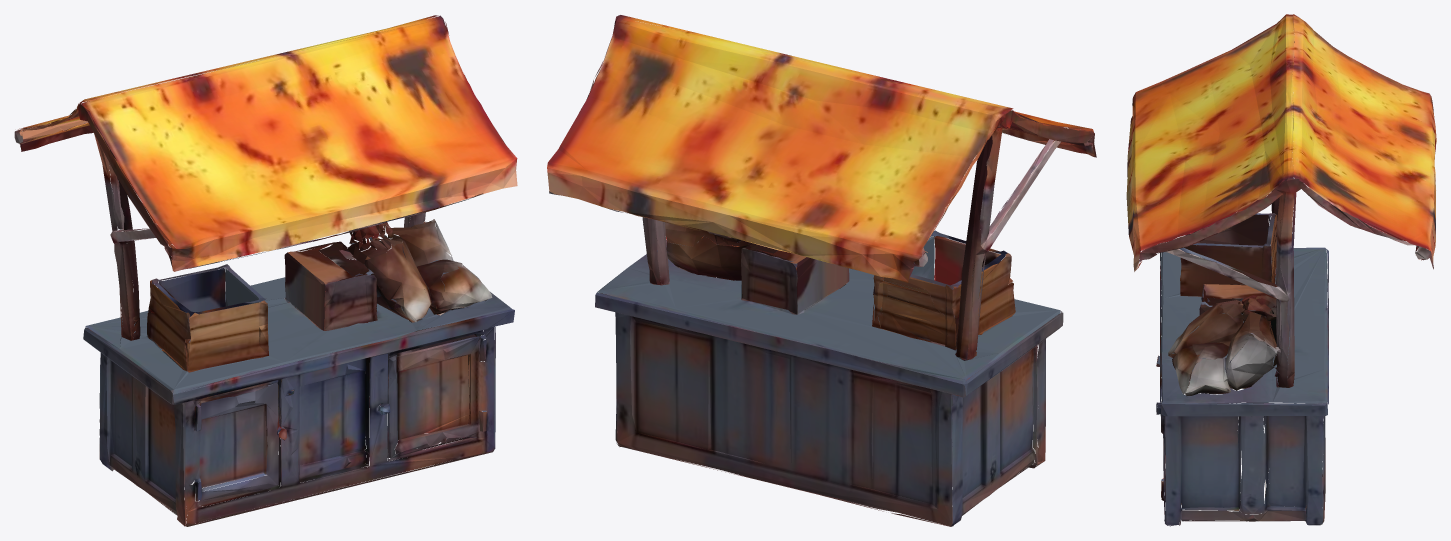
Rendered from market-stall.glb.
3 views of the same model, side by side, from view 1: azimuth 30°, elevation 25°; view 2: azimuth 150°, elevation 25°; view 3: azimuth 270°, elevation 25° (orthographic). The views are drawn at different scales.
Visible parts, largest first — view 1: prop; view 2: prop; view 3: prop.
Boxes of the visible parts, <box> form: prop: <box>14,15,517,526</box>; prop: <box>547,15,1096,526</box>; prop: <box>1126,14,1436,526</box>.
Bounding box in the file's own units: 0.9199 × 0.9292 × 0.7337.
Materials: 1 (1 with a texture image).
